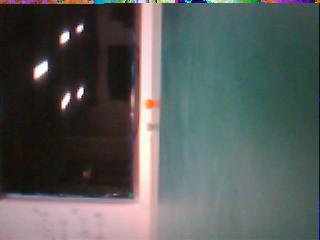oball: (144, 98, 153, 111)
